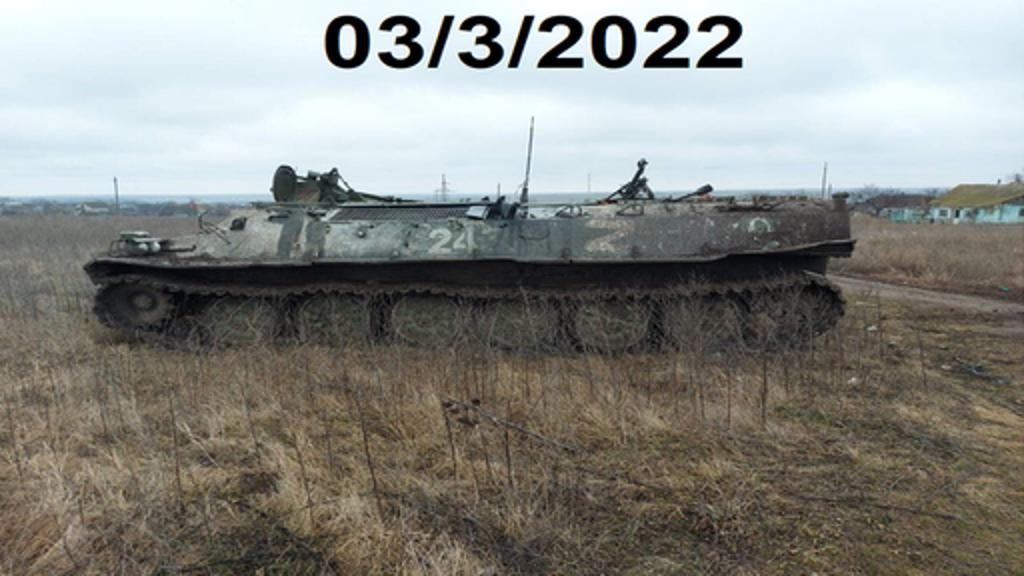APC-IFV: (76, 142, 856, 408)
